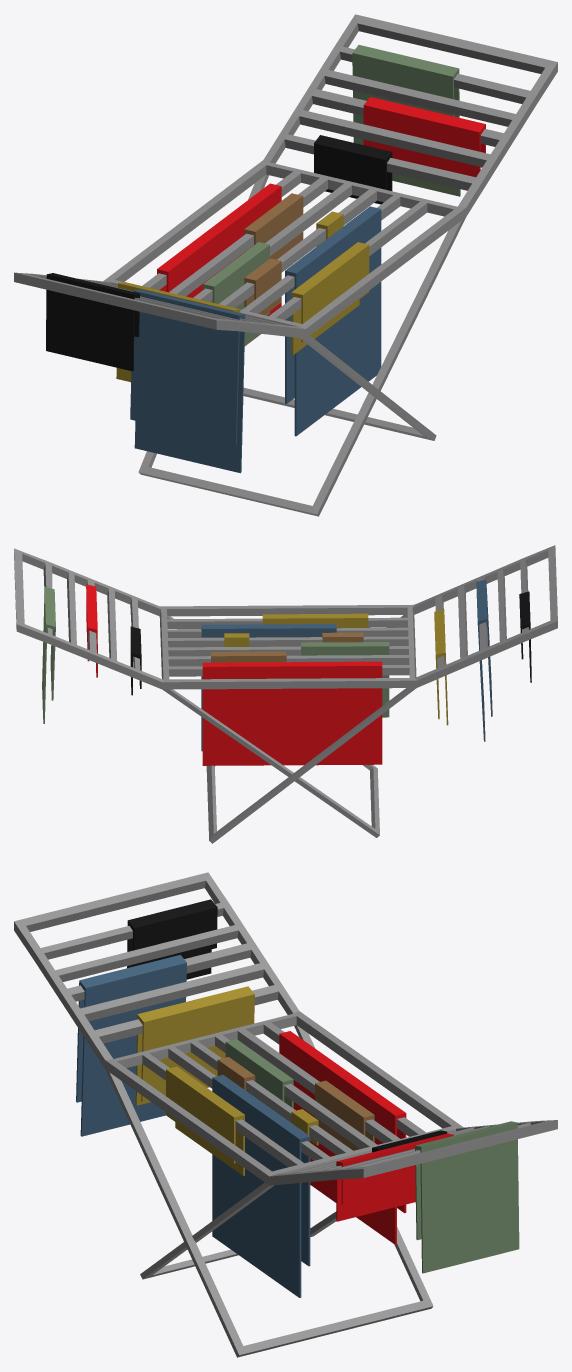
The model's file is Clothesline.fbx.
3 views of the same model, one above another, from view 1: azimuth 30°, elevation 25°; view 2: azimuth 150°, elevation 25°; view 3: azimuth 270°, elevation 25° (orthographic). The views are drawn at different scales.
Visible parts, largest first — view 1: Clothesline; view 2: Clothesline; view 3: Clothesline.
Part boxes in pixels (<box>): Clothesline: <box>14,14,557,516</box>; Clothesline: <box>14,545,557,843</box>; Clothesline: <box>14,872,557,1357</box>.
Bounding box in the file's own units: 552 × 427 × 241.
